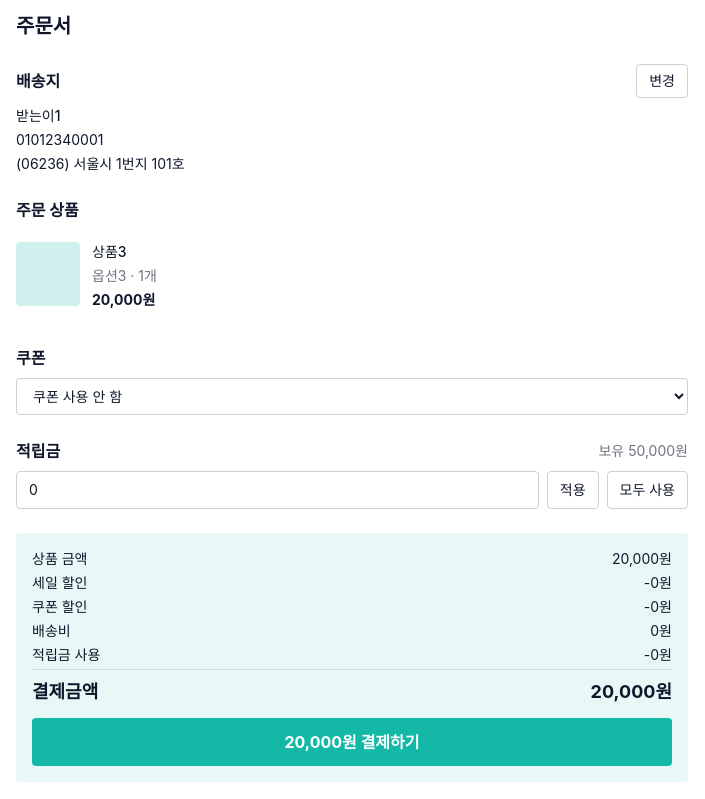
Test: 적립금 모두 사용은 결제금액 100원을 남긴다
Expected: the text "상품3" is shown, [92,243,126,260]
Click the button "모두 사용" at coordinates (647, 490), box [606,471,688,509]
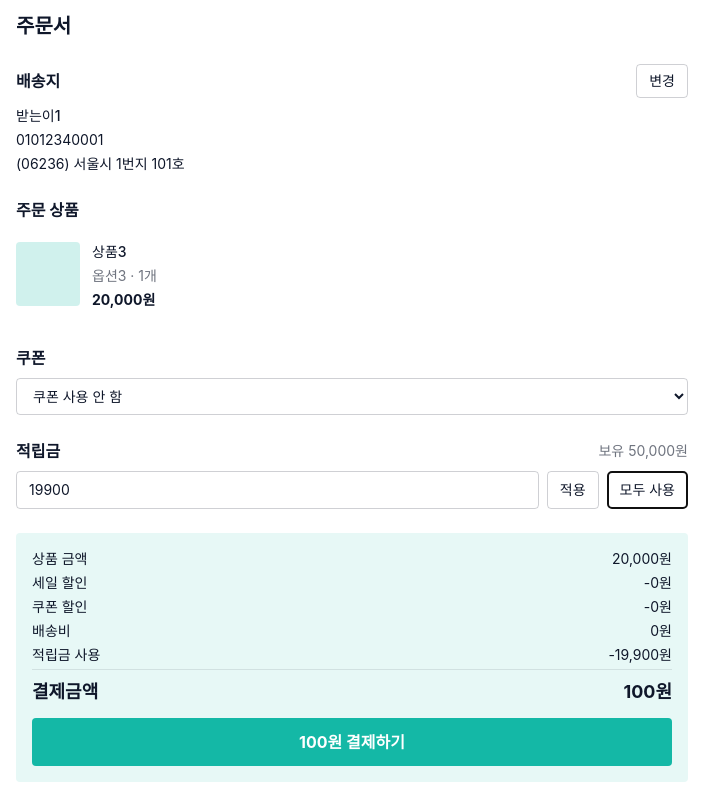
Expected: the text "결제금액" shows "100원", [623,681,672,702]
Expected: the number field named "사용할 적립금" holds "19900", [16,471,539,509]
